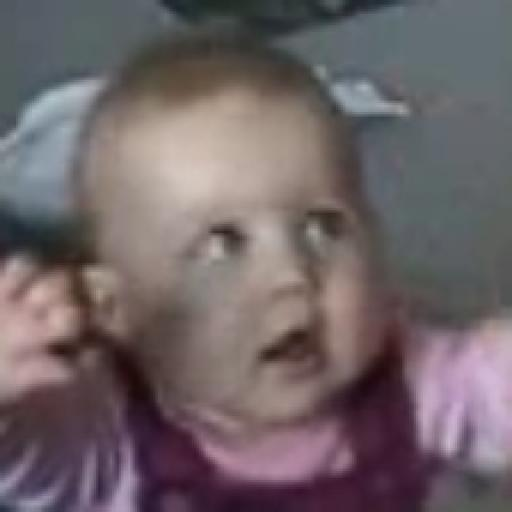Autism: (56, 50, 427, 420)
